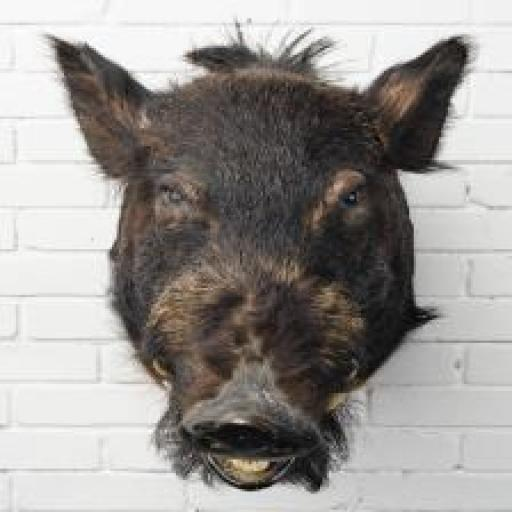Pig: (43, 14, 479, 489)
